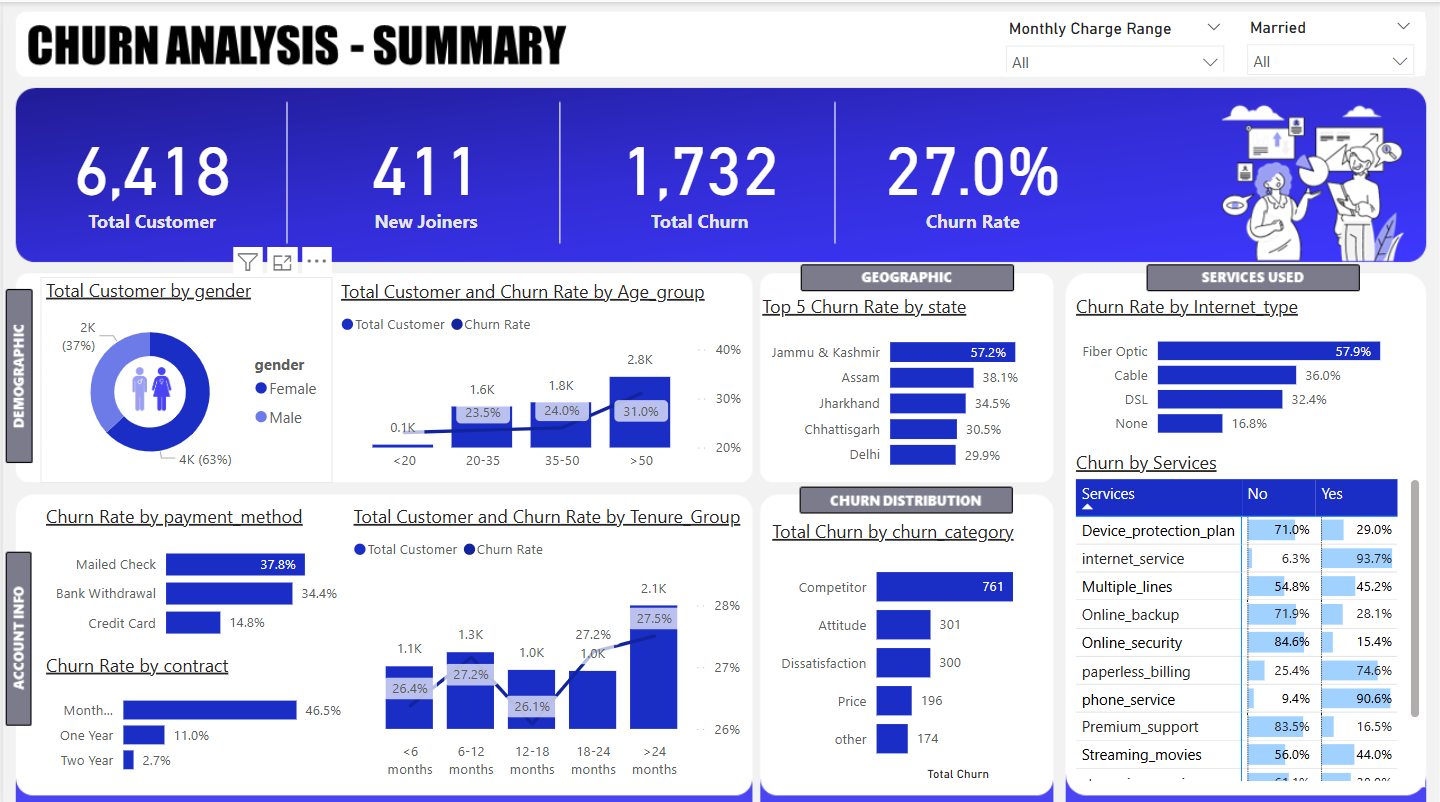

What the dashboard file says about the page in this screenshot:
{"tool":"powerbi","page":{"name":"Summary","canvas":[1280,720],"ordinal":0},"visuals":[{"type":"image","box":[89.3,313.7,86.9,60.3],"z":0},{"type":"card","fields":{"Values":["Measure.Total Customer"]},"box":[10.9,80.8,243.7,144.8],"z":1000},{"type":"card","fields":{"Values":["Measure.New Joiners"]},"box":[254.6,80.8,243.7,144.8],"z":2000},{"type":"card","fields":{"Values":["Measure.Total Churn"]},"box":[498.3,80.8,243.7,144.8],"z":3000},{"type":"card","fields":{"Values":["Measure.Churn Rate"]},"box":[742,80.8,242.5,144.8],"z":4000},{"type":"donutChart","fields":{"Y":["Measure.Total Customer"],"Category":["prod_churn.gender"]},"box":[33.8,244.9,260.6,183.4],"z":5000},{"type":"lineStackedColumnComboChart","fields":{"Category":["mapping_AgeGroup.Age_group"],"Y":["Measure.Total Customer"],"Y2":["Measure.Churn Rate"]},"box":[295.6,246.1,366.8,181],"z":6000},{"type":"barChart","fields":{"Category":["prod_churn.payment_method"],"Y":["Measure.Churn Rate"]},"box":[33.8,446.4,273.9,132.7],"z":7000},{"type":"barChart","fields":{"Category":["prod_churn.contract"],"Y":["Measure.Churn Rate"]},"box":[33.8,579.1,273.9,119.4],"z":8000},{"type":"barChart","title":"Top 5 Churn Rate by state","fields":{"Y":["Measure.Churn Rate"],"Category":["prod_churn.state"]},"box":[670.8,259.4,267.8,167.7],"z":9000},{"type":"clusteredBarChart","fields":{"Y":["Measure.Total Churn"],"Category":["prod_churn.churn_category"]},"box":[680.4,459.7,248.5,238.9],"z":10000},{"type":"slicer","fields":{"Values":["prod_churn.monthly_charge_status"]},"box":[883.1,9.7,214.7,53.1],"z":11000},{"type":"slicer","fields":{"Values":["prod_churn.married"]},"box":[1097.9,8.4,168.9,56.7],"z":12000},{"type":"barChart","fields":{"Y":["Measure.Churn Rate"],"Category":["prod_churn.Internet_type"]},"box":[950.7,259.4,316.1,138.7],"z":13000},{"type":"pivotTable","title":"Churn by Services","fields":{"Values":["Sum(prod_services.churn_status)"],"Rows":["prod_services.Services"],"Columns":["prod_services.Status"]},"box":[950.7,398.1,316.1,300.4],"z":14000},{"type":"lineStackedColumnComboChart","fields":{"Category":["mapping_TenureGroup.Tenure_Group"],"Y":["Measure.Total Customer"],"Y2":["Measure.Churn Rate"]},"box":[307.6,446.4,354.7,252.1],"z":15000}]}

Visuals, with their boxes on the page's 1280x720 design canvas (x1, y1, x2, y2). These are canvas units, not pixel positions in the 1440x802 screenshot, which may show the page scaled, cropped or inside an application window:
image: [89, 314, 176, 374]
card - Measure.Total Customer: [11, 81, 255, 226]
card - Measure.New Joiners: [255, 81, 498, 226]
card - Measure.Total Churn: [498, 81, 742, 226]
card - Measure.Churn Rate: [742, 81, 984, 226]
donutChart - Measure.Total Customer x prod_churn.gender: [34, 245, 294, 428]
lineStackedColumnComboChart - mapping_AgeGroup.Age_group x Measure.Total Customer: [296, 246, 662, 427]
barChart - prod_churn.payment_method x Measure.Churn Rate: [34, 446, 308, 579]
barChart - prod_churn.contract x Measure.Churn Rate: [34, 579, 308, 698]
"Top 5 Churn Rate by state" barChart: [671, 259, 939, 427]
clusteredBarChart - Measure.Total Churn x prod_churn.churn_category: [680, 460, 929, 699]
slicer - prod_churn.monthly_charge_status: [883, 10, 1098, 63]
slicer - prod_churn.married: [1098, 8, 1267, 65]
barChart - Measure.Churn Rate x prod_churn.Internet_type: [951, 259, 1267, 398]
"Churn by Services" pivotTable: [951, 398, 1267, 698]
lineStackedColumnComboChart - mapping_TenureGroup.Tenure_Group x Measure.Total Customer: [308, 446, 662, 698]
